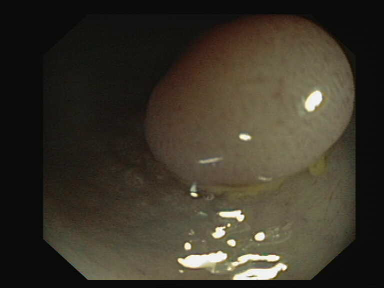polyp: (109, 31, 355, 203)
